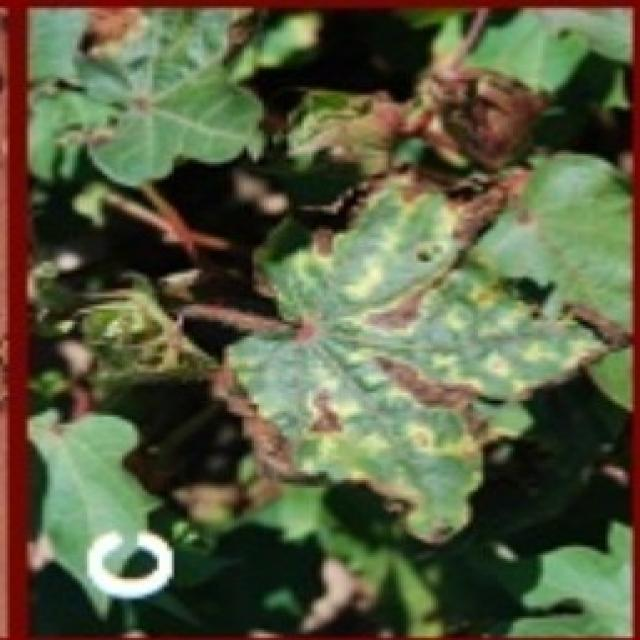Fusarium Wilt: (34, 19, 603, 640)
